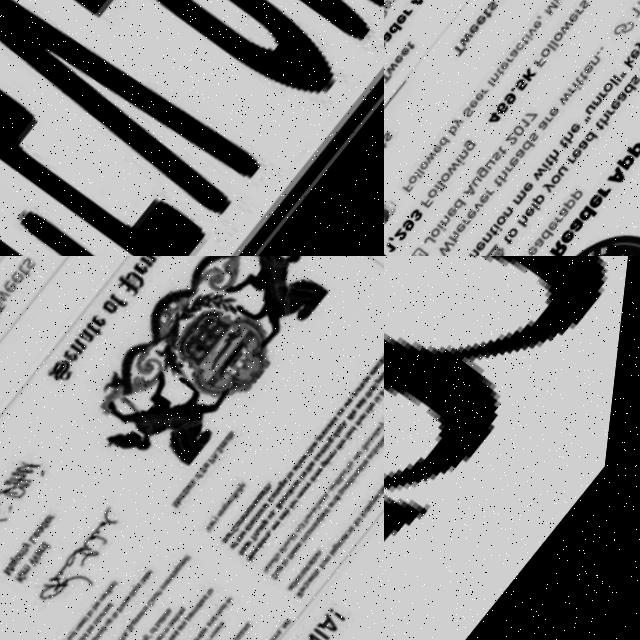0: (496, 112, 511, 127)
1: (522, 78, 538, 93)
2: (504, 102, 519, 117)
3: (532, 109, 549, 125)
5: (511, 93, 526, 108), (413, 219, 428, 233)
8: (0, 0, 384, 142)
E: (0, 0, 263, 256)
G: (0, 0, 218, 256)
M: (384, 256, 640, 640)
N: (0, 0, 384, 70)
V: (0, 0, 315, 253)
